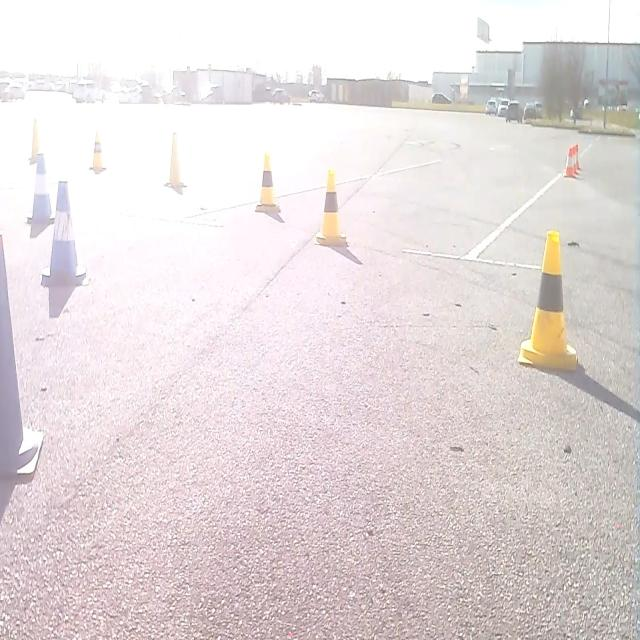blue_cone: (0, 234, 44, 475), (41, 181, 89, 286), (28, 153, 55, 223)
orange_cone: (564, 144, 578, 178), (568, 144, 581, 176)
yellow_cone: (518, 231, 578, 370), (314, 171, 346, 246), (256, 153, 281, 212), (165, 133, 186, 186), (89, 132, 106, 170), (29, 119, 40, 161)
